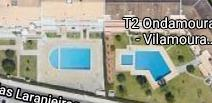pool: (115, 45, 173, 82), (48, 44, 92, 70)
